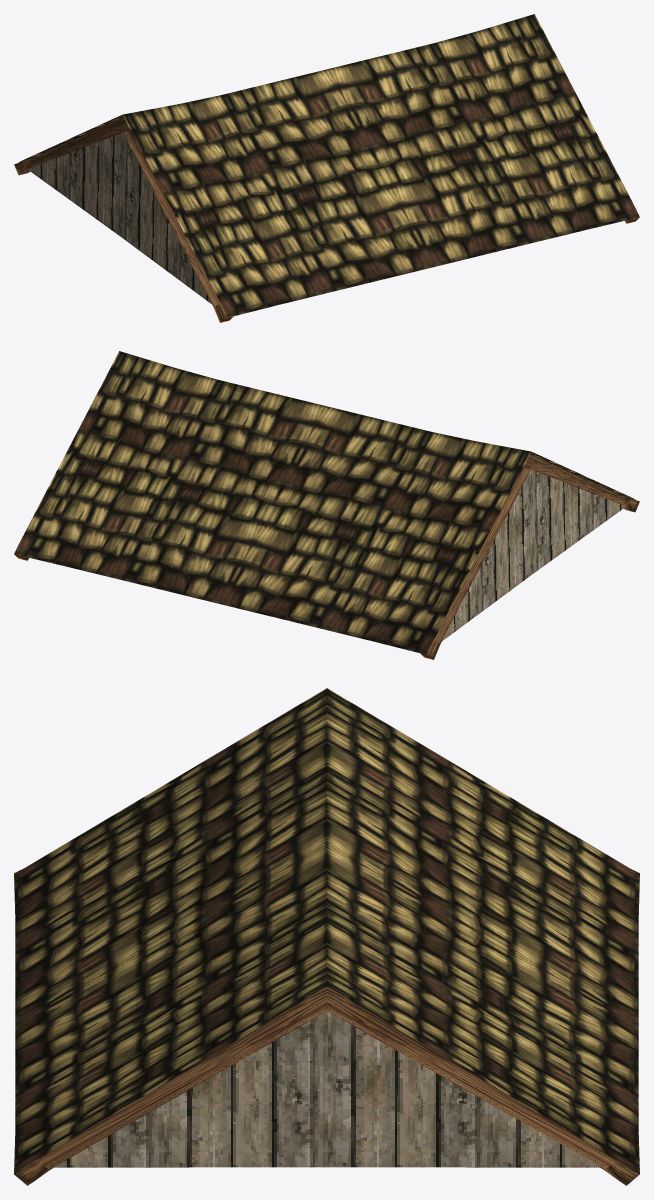
The model's file is LAKETOWN_WAREHOUSE1_PS_WH1_ROOFTOP55__GX.fbx.
The picture shows the model from 3 angles, top to bottom: view 1: azimuth 30°, elevation 25°; view 2: azimuth 150°, elevation 25°; view 3: azimuth 270°, elevation 25°; orthographic projection. The views are drawn at different scales.
Visible parts, largest first — view 1: LAKETOWN_WAREHOUSE1_PS_WH1_ROOFTOP55__GX; view 2: LAKETOWN_WAREHOUSE1_PS_WH1_ROOFTOP55__GX; view 3: LAKETOWN_WAREHOUSE1_PS_WH1_ROOFTOP55__GX.
Boxes of the visible parts, bbox=[...] form: LAKETOWN_WAREHOUSE1_PS_WH1_ROOFTOP55__GX: bbox=[14, 14, 639, 322]; LAKETOWN_WAREHOUSE1_PS_WH1_ROOFTOP55__GX: bbox=[14, 351, 639, 659]; LAKETOWN_WAREHOUSE1_PS_WH1_ROOFTOP55__GX: bbox=[14, 688, 639, 1185].
Bounding box in the file's own units: 193572 × 59615 × 170030.
4 materials, 4 textured.
